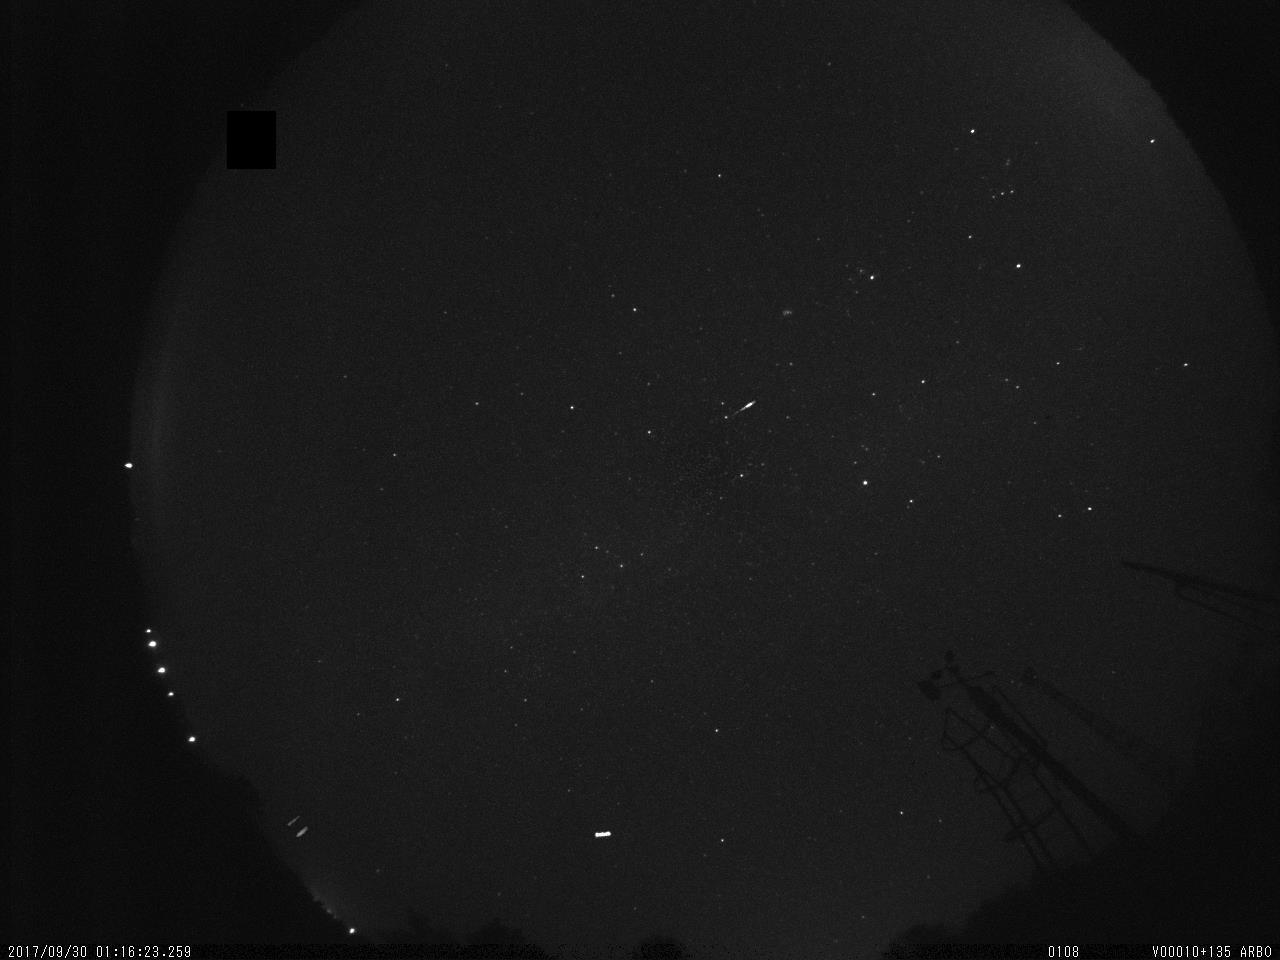TLE: (277, 804, 318, 848)
